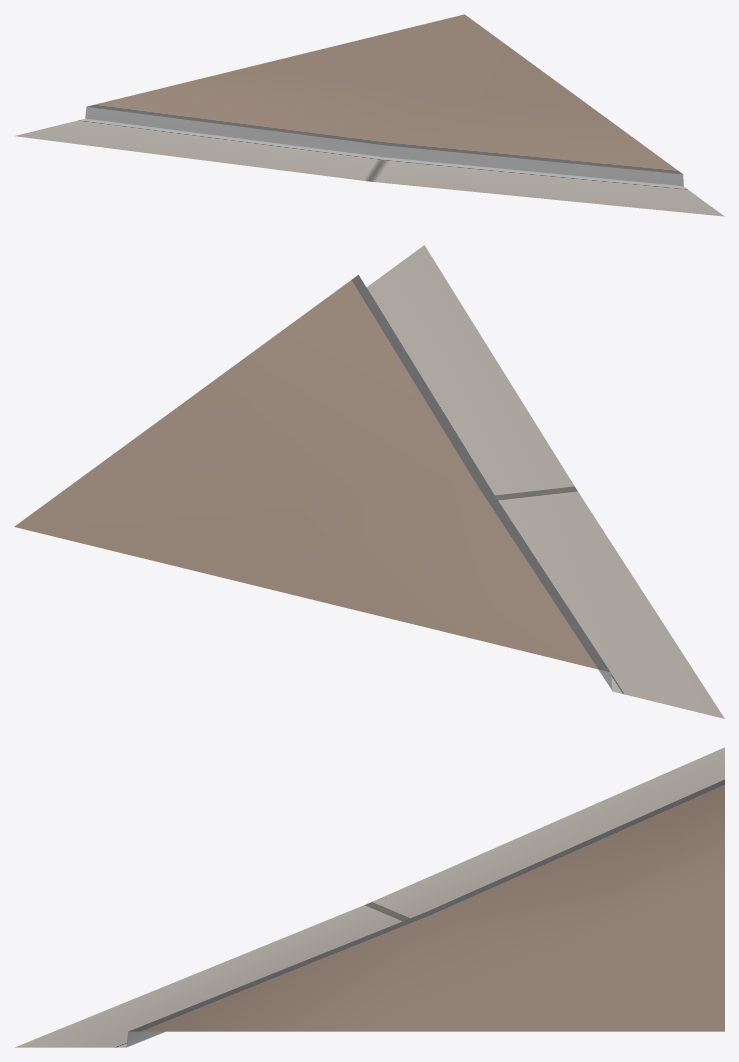
The model's file is island_slant.fbx.
The picture shows the model from 3 angles, top to bottom: view 1: azimuth 30°, elevation 25°; view 2: azimuth 150°, elevation 25°; view 3: azimuth 270°, elevation 25°; orthographic projection. The views are drawn at different scales.
Visible parts, largest first — view 1: island_tile_slant; view 2: island_tile_slant; view 3: island_tile_slant.
Boxes of the visible parts, x1,y1,x2,y2 form: island_tile_slant: [14, 14, 724, 216]; island_tile_slant: [14, 245, 724, 718]; island_tile_slant: [15, 747, 724, 1047].
Bounding box in the file's own units: 4 × 0.1399 × 4.
